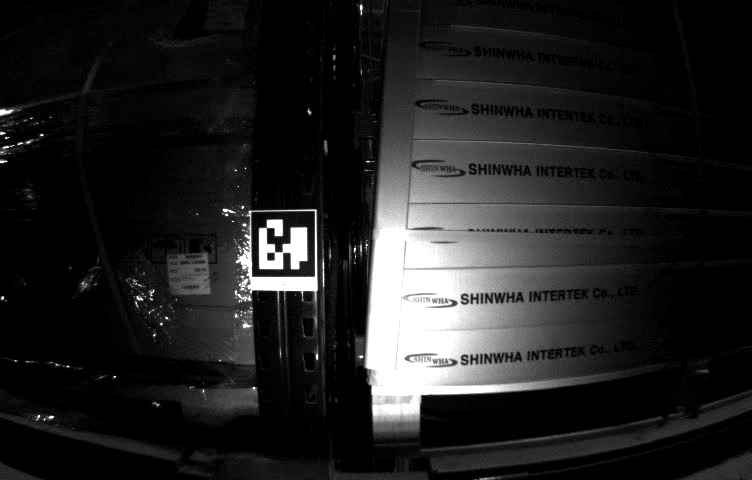True Barcode: (163, 252, 214, 296)
